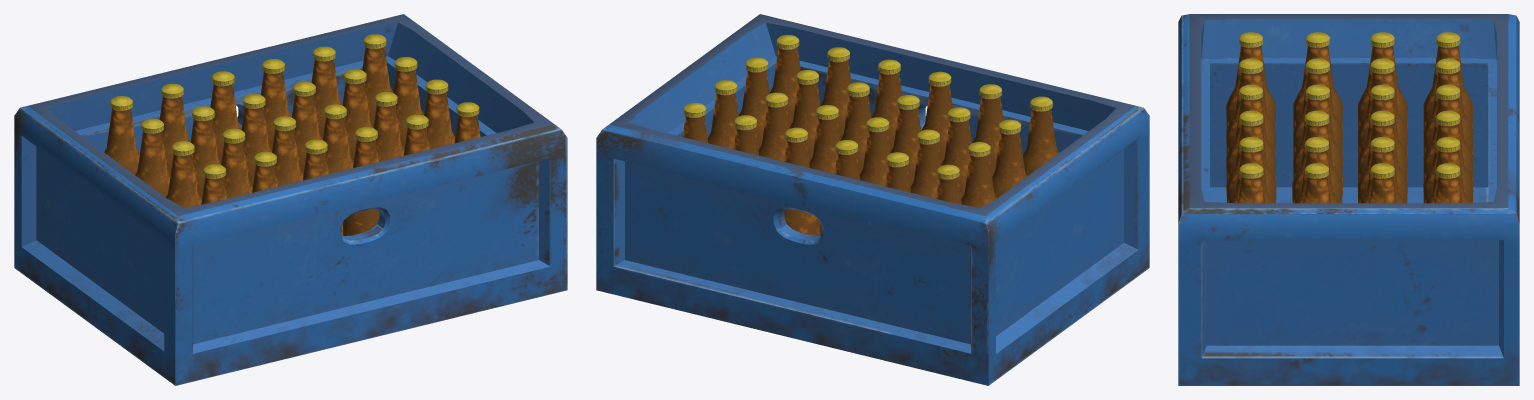
Rendered from engradado de cerveja.fbx.
3 views of the same model, side by side, from view 1: azimuth 30°, elevation 25°; view 2: azimuth 150°, elevation 25°; view 3: azimuth 270°, elevation 25° (orthographic). The views are drawn at different scales.
Visible parts, largest first — view 1: Cube, Cylinder.010, Cylinder.026, Cylinder.027, Cylinder.030, Cylinder.034, Cylinder.013, Cylinder.016, Cylinder.017, Cylinder.021, Cylinder.012, Cylinder.022 (+13 smaller); view 2: Cube, Cylinder.033, Cylinder.027, Cylinder.026, Cylinder.022, Cylinder.018, Cylinder.023, Cylinder.020, Cylinder.031, Cylinder.028, Cylinder.013, Cylinder.014 (+13 smaller); view 3: Cube, Cylinder.010, Cylinder.031, Cylinder.027, Cylinder.026, Cylinder.033, Cylinder.028, Cylinder.029, Cylinder.030, Cylinder.035, Cylinder.036, Cylinder.013 (+13 smaller).
Boxes of the visible parts, left/top/right/bottom form: Cube: left=14, top=14, right=567, bottom=385; Cylinder.010: left=104, top=96, right=139, bottom=174; Cylinder.026: left=135, top=118, right=170, bottom=197; Cylinder.027: left=165, top=141, right=201, bottom=207; Cylinder.030: left=190, top=106, right=221, bottom=199; Cylinder.034: left=241, top=94, right=271, bottom=186; Cylinder.013: left=291, top=81, right=322, bottom=174; Cylinder.016: left=311, top=46, right=342, bottom=138; Cylinder.017: left=342, top=69, right=373, bottom=161; Cylinder.021: left=393, top=57, right=424, bottom=149; Cylinder.012: left=362, top=34, right=393, bottom=126; Cylinder.022: left=424, top=79, right=455, bottom=149; Cube: left=596, top=14, right=1149, bottom=385; Cylinder.033: left=1023, top=96, right=1058, bottom=175; Cylinder.027: left=992, top=119, right=1027, bottom=198; Cylinder.026: left=961, top=142, right=996, bottom=207; Cylinder.022: left=739, top=57, right=769, bottom=149; Cylinder.018: left=789, top=70, right=820, bottom=162; Cylinder.023: left=770, top=35, right=800, bottom=126; Cylinder.020: left=820, top=47, right=851, bottom=139; Cylinder.031: left=890, top=95, right=921, bottom=186; Cylinder.028: left=941, top=107, right=971, bottom=199; Cylinder.013: left=809, top=105, right=840, bottom=235; Cylinder.014: left=840, top=82, right=871, bottom=174; Cube: left=1178, top=14, right=1519, bottom=385; Cylinder.010: left=1423, top=32, right=1473, bottom=191; Cylinder.031: left=1293, top=84, right=1342, bottom=202; Cylinder.027: left=1293, top=32, right=1343, bottom=195; Cylinder.026: left=1357, top=32, right=1407, bottom=192; Cylinder.033: left=1226, top=32, right=1275, bottom=196; Cylinder.028: left=1293, top=58, right=1342, bottom=155; Cylinder.029: left=1423, top=58, right=1473, bottom=155; Cylinder.030: left=1358, top=58, right=1407, bottom=155; Cylinder.035: left=1226, top=58, right=1275, bottom=155; Cylinder.036: left=1226, top=84, right=1275, bottom=182; Cylinder.013: left=1358, top=110, right=1407, bottom=203.
Bounding box in the file's own units: 93.2 × 39.65 × 66.34.
